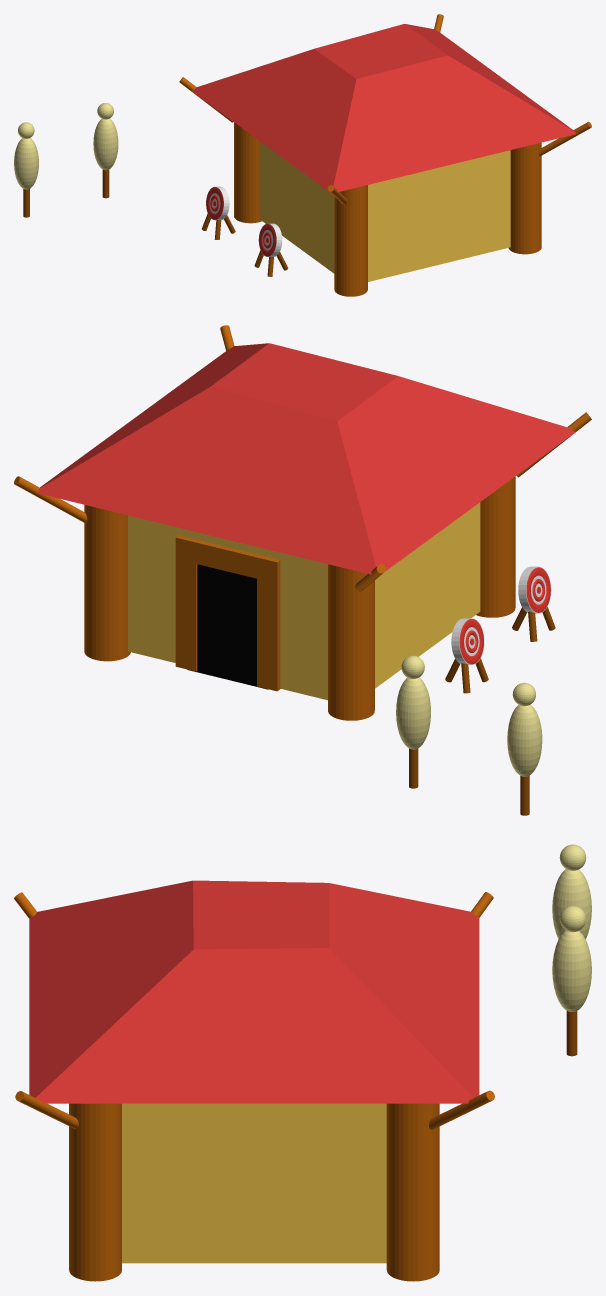
File: kaserne.fbx
3 views of the same model, one above another, from view 1: azimuth 30°, elevation 25°; view 2: azimuth 150°, elevation 25°; view 3: azimuth 270°, elevation 25° (orthographic). The views are drawn at different scales.
Visible parts, largest first — view 1: Sphere.003; view 2: Sphere.003; view 3: Sphere.003.
Boxes of the visible parts, left/top/right/bottom form: Sphere.003: left=14, top=14, right=591, bottom=296; Sphere.003: left=14, top=325, right=591, bottom=815; Sphere.003: left=14, top=844, right=591, bottom=1281.
Bounding box in the file's own units: 2773 × 1193 × 2183.
